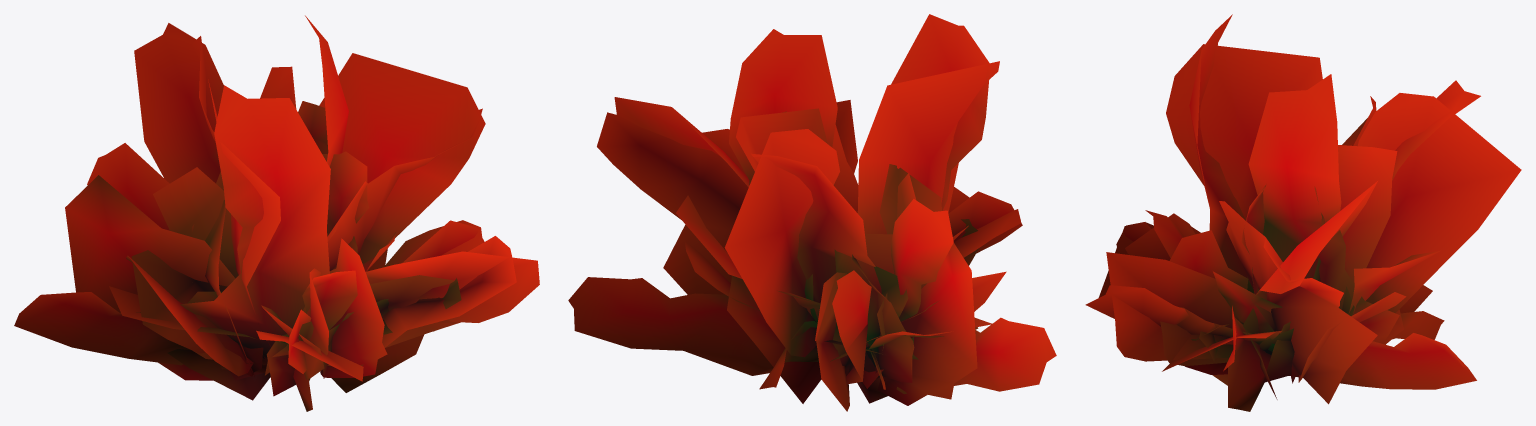
The model's file is JuniperBush_C.fbx.
3 renders of one model, left to right at view 1: azimuth 30°, elevation 25°; view 2: azimuth 150°, elevation 25°; view 3: azimuth 270°, elevation 25°, orthographic. The views are drawn at different scales.
Visible parts, largest first — view 1: JuniperBush_C_LOD0; view 2: JuniperBush_C_LOD0; view 3: JuniperBush_C_LOD0.
Part boxes in pixels (x1,y1,x2,y2): JuniperBush_C_LOD0: (14,15,539,411); JuniperBush_C_LOD0: (568,14,1056,411); JuniperBush_C_LOD0: (1085,14,1521,411).
Size of what is drawn, in the model's own units: 1.37 by 1.04 by 1.2.
